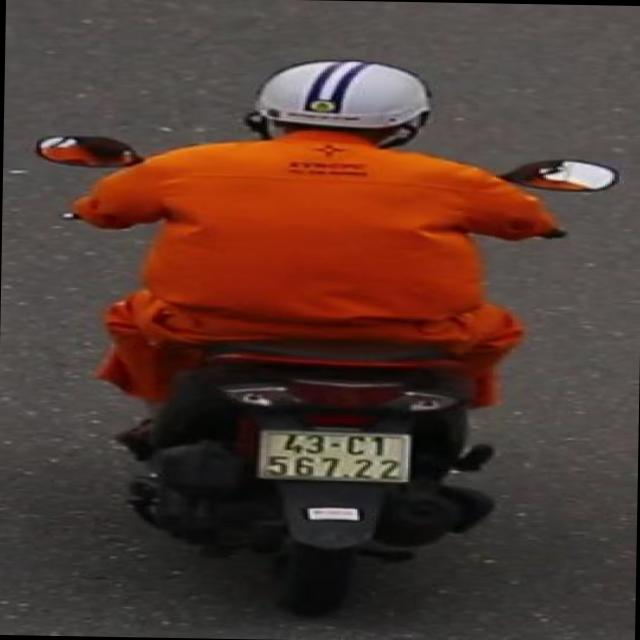LP: (250, 421, 420, 486)
helmet: (242, 56, 443, 162)
